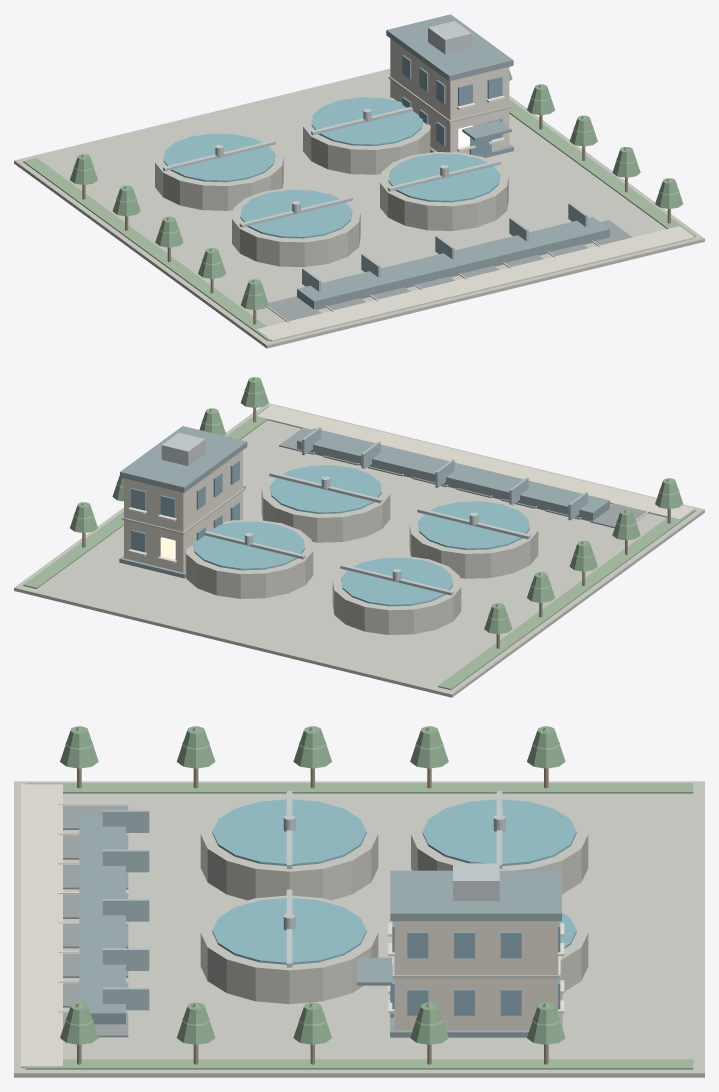
File: remaster_water.glb
3 renders of one model, top to bottom at view 1: azimuth 30°, elevation 25°; view 2: azimuth 150°, elevation 25°; view 3: azimuth 270°, elevation 25°, orthographic. The views are drawn at different scales.
Visible parts, largest first — view 1: remaster_water stone, remaster_water water, remaster_water cream, remaster_water roof, remaster_water green, remaster_water leaf, remaster_water metal, remaster_water asphalt, remaster_water glass, remaster_water blue; view 2: remaster_water stone, remaster_water water, remaster_water cream, remaster_water roof, remaster_water green, remaster_water leaf, remaster_water metal, remaster_water glass, remaster_water blue, remaster_water asphalt; view 3: remaster_water stone, remaster_water cream, remaster_water water, remaster_water roof, remaster_water green, remaster_water leaf, remaster_water blue, remaster_water asphalt, remaster_water glass, remaster_water metal, remaster_water bark, remaster_water white.
Part boxes in pixels (x1,y1,x2,y2): remaster_water stone: (14, 66, 704, 348); remaster_water water: (163, 97, 500, 238); remaster_water cream: (256, 38, 694, 341); remaster_water roof: (297, 14, 609, 309); remaster_water green: (23, 99, 695, 340); remaster_water leaf: (70, 70, 683, 310); remaster_water metal: (163, 21, 500, 227); remaster_water asphalt: (267, 220, 632, 321); remaster_water glass: (402, 55, 502, 155); remaster_water blue: (302, 203, 587, 291); remaster_water stone: (14, 403, 704, 697); remaster_water water: (193, 465, 529, 606); remaster_water cream: (124, 405, 694, 572); remaster_water roof: (119, 426, 609, 578); remaster_water green: (23, 406, 695, 689); remaster_water leaf: (70, 377, 683, 634); remaster_water metal: (161, 432, 530, 595); remaster_water glass: (131, 460, 239, 552); remaster_water blue: (302, 427, 587, 520); remaster_water asphalt: (279, 428, 647, 528); remaster_water stone: (14, 781, 704, 1077); remaster_water cream: (21, 784, 557, 1068); remaster_water water: (212, 799, 576, 964); remaster_water roof: (79, 816, 562, 1037); remaster_water green: (25, 783, 693, 1069); remaster_water leaf: (60, 726, 565, 1044); remaster_water blue: (102, 810, 149, 1010); remaster_water asphalt: (63, 805, 128, 1037); remaster_water glass: (390, 921, 560, 1017); remaster_water metal: (283, 791, 505, 967); remaster_water bark: (77, 768, 548, 1064); remaster_water white: (58, 803, 564, 1013).
Size of the model in its own units: 29.65 by 7 by 29.6.
